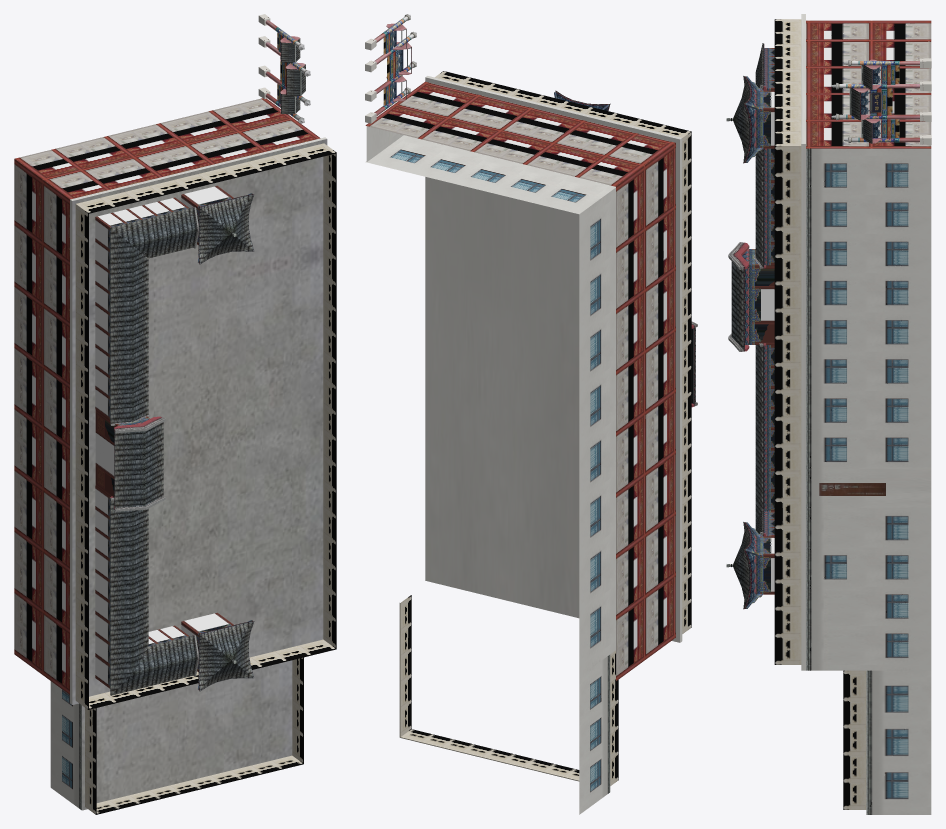
Rendered from sg_sxy_0.gltf.
3 renders of one model, left to right at view 1: azimuth 30°, elevation 25°; view 2: azimuth 150°, elevation 25°; view 3: azimuth 270°, elevation 25°, orthographic. The views are drawn at different scales.
Parts seen in each view (by area): view 1: 对象049; view 2: 对象049; view 3: 对象049.
Part boxes in pixels (left/top/right/bottom): 对象049: left=14, top=14, right=336, bottom=814; 对象049: left=365, top=14, right=697, bottom=814; 对象049: left=726, top=14, right=931, bottom=814.
Bounding box in the file's own units: 25.39 × 66.95 × 16.55.
Materials: 14 (14 with a texture image).
